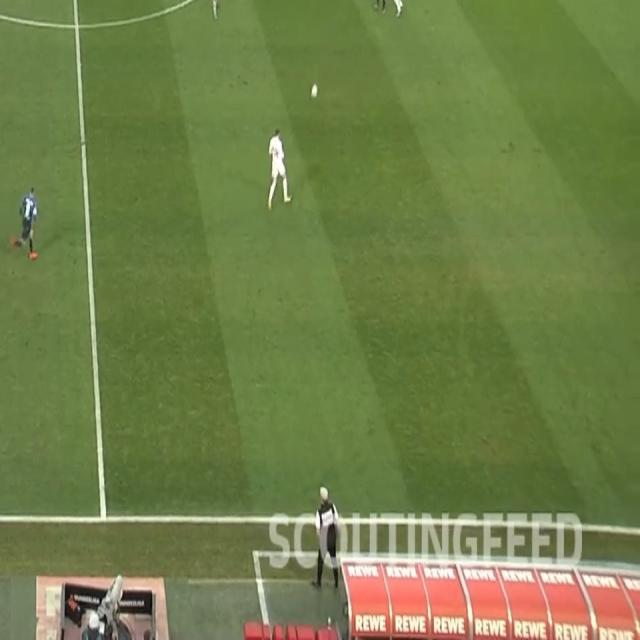ball: (310, 82, 319, 101)
